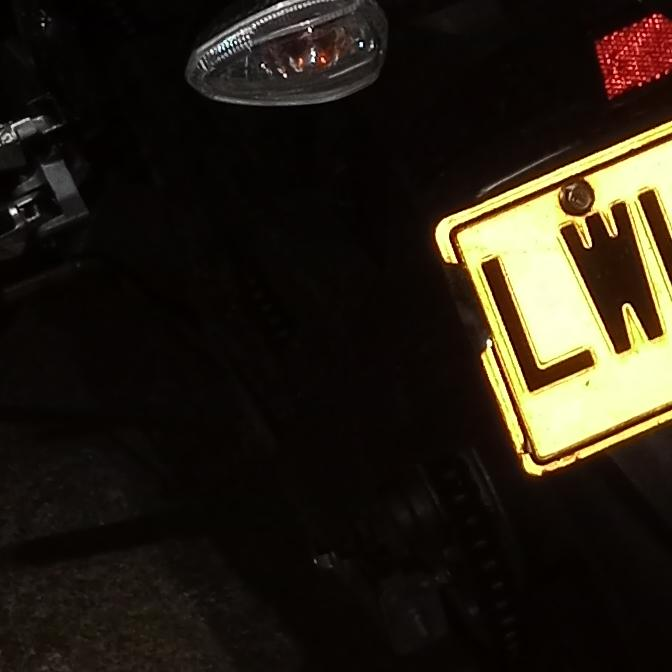plates: (431, 116, 672, 466)
